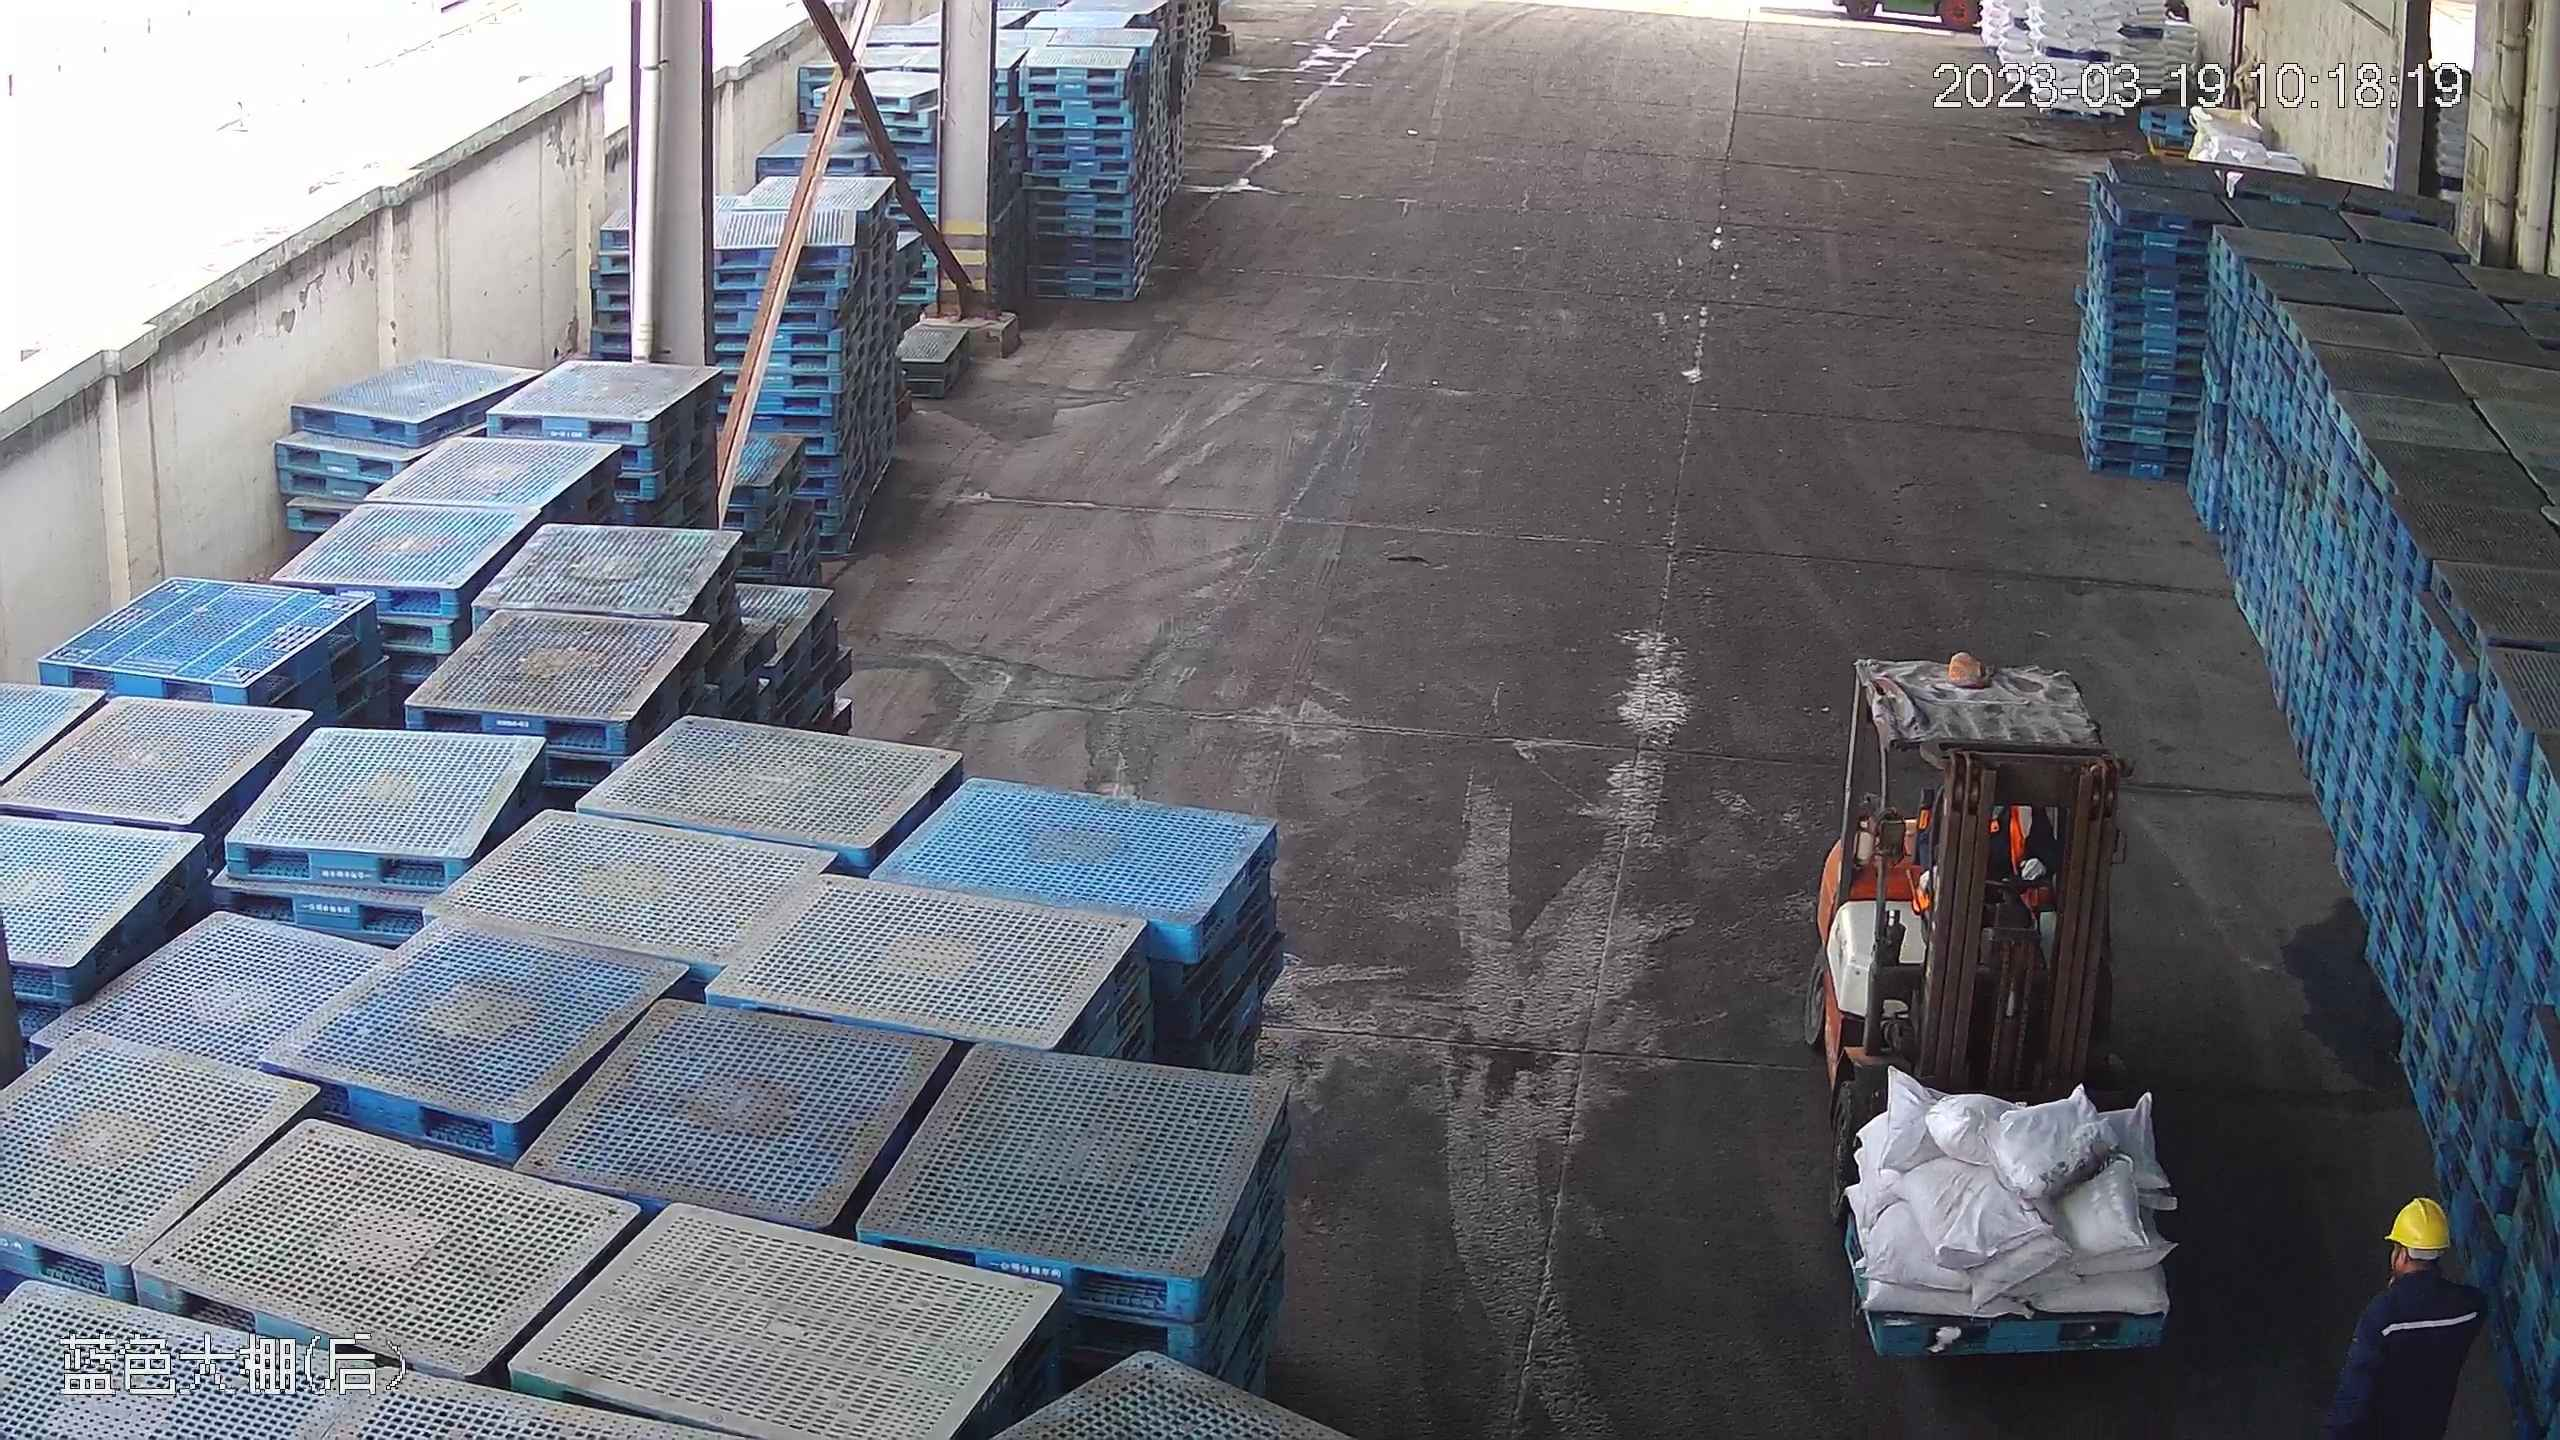head: (2347, 1194, 2478, 1340)
helmet: (2385, 1195, 2454, 1248)
people: (2324, 1195, 2482, 1431)
